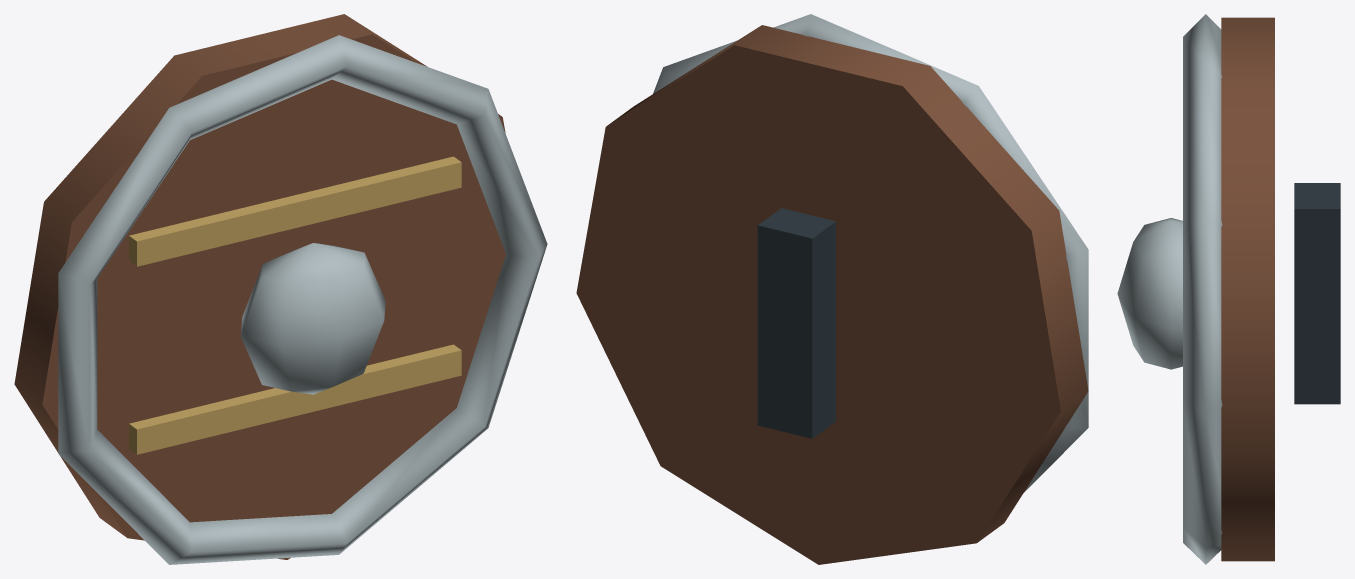
Rendered from fixed-shield-lod1.glb.
3 views of the same model, side by side, from view 1: azimuth 30°, elevation 25°; view 2: azimuth 150°, elevation 25°; view 3: azimuth 270°, elevation 25° (orthographic). The views are drawn at different scales.
Parts seen in each view (by area): view 1: piece_whole; view 2: piece_whole; view 3: piece_whole.
Part boxes in pixels (left/top/right/bottom): piece_whole: left=14, top=14, right=547, bottom=564; piece_whole: left=576, top=14, right=1088, bottom=564; piece_whole: left=1117, top=14, right=1340, bottom=564.
Size of the model in its own units: 0.7195 by 0.7195 by 0.29.
